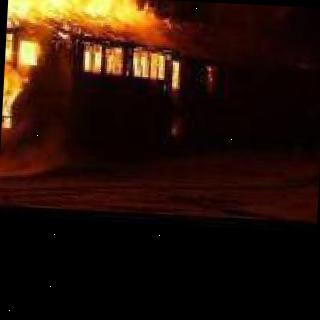fire: (84, 40, 182, 87), (1, 30, 38, 146), (7, 0, 152, 27)
